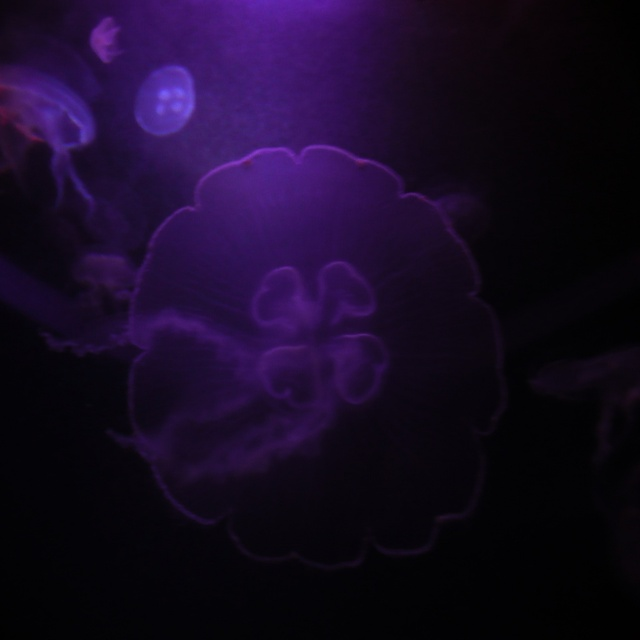Jellyfish: (102, 145, 511, 527), (0, 73, 98, 206), (137, 64, 196, 134)
